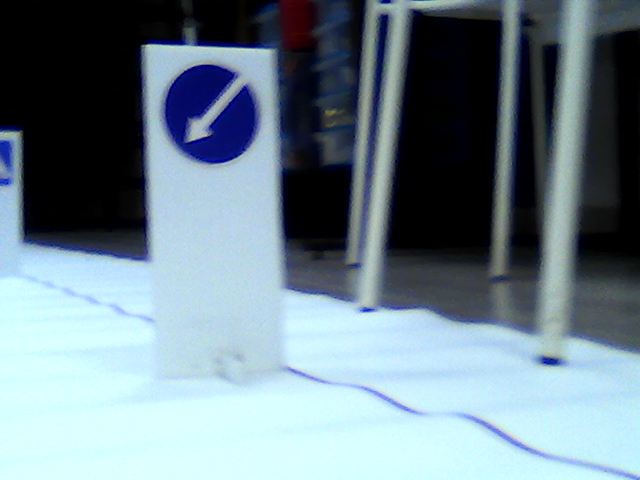prep: (166, 63, 261, 178)
